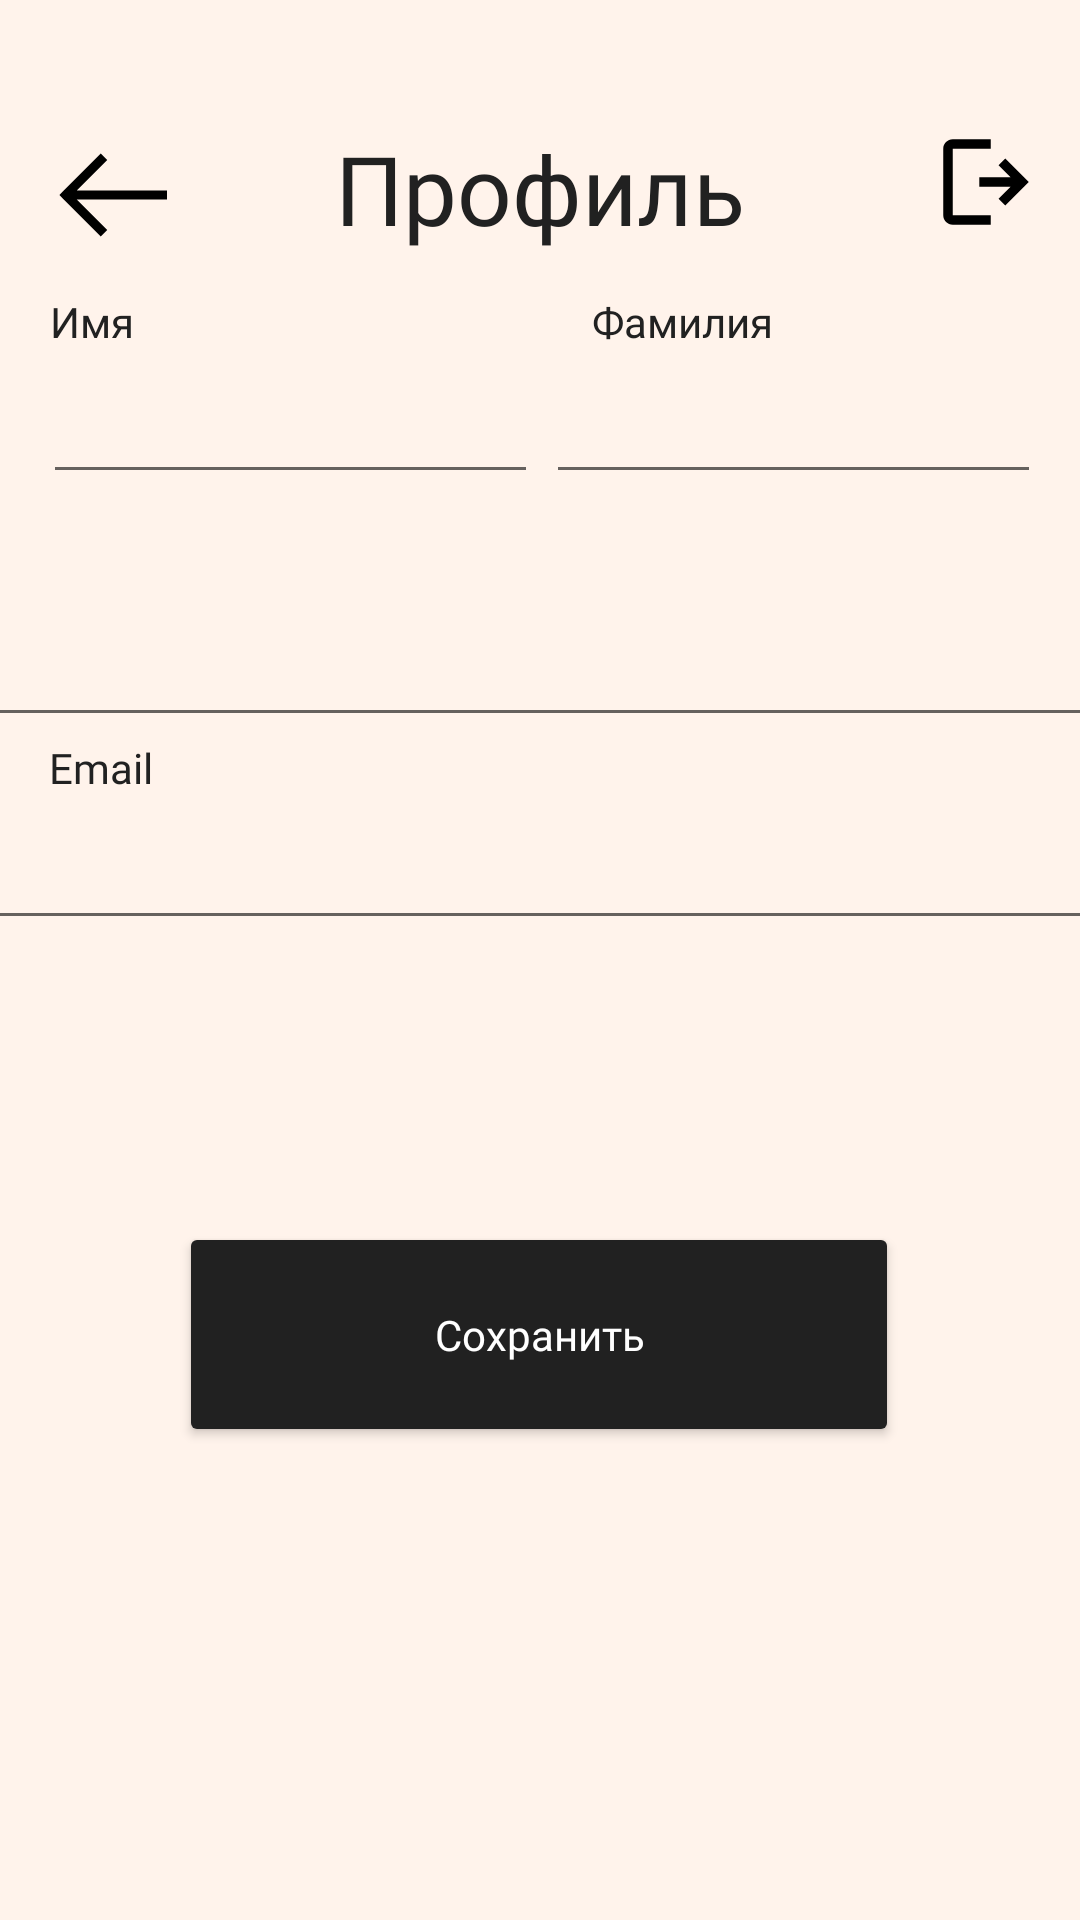

Named icons in this screenshot (1080×1920) and their centers, [x,y]:
back: [113,195]
